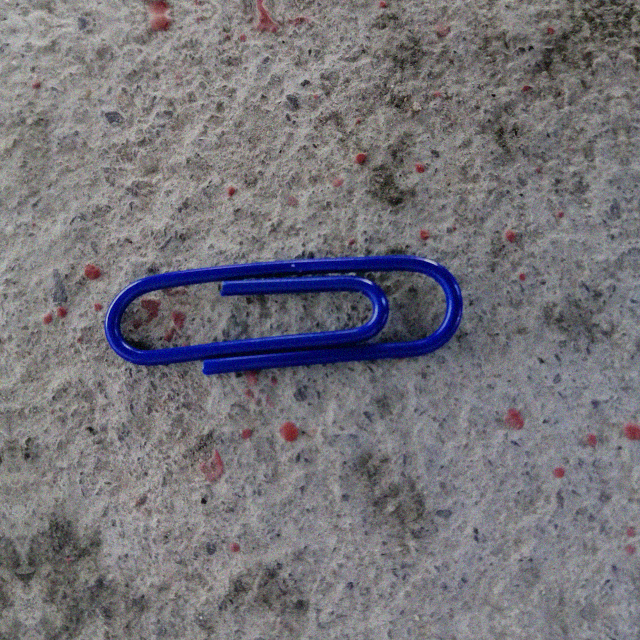pin: (106, 244, 460, 382)
